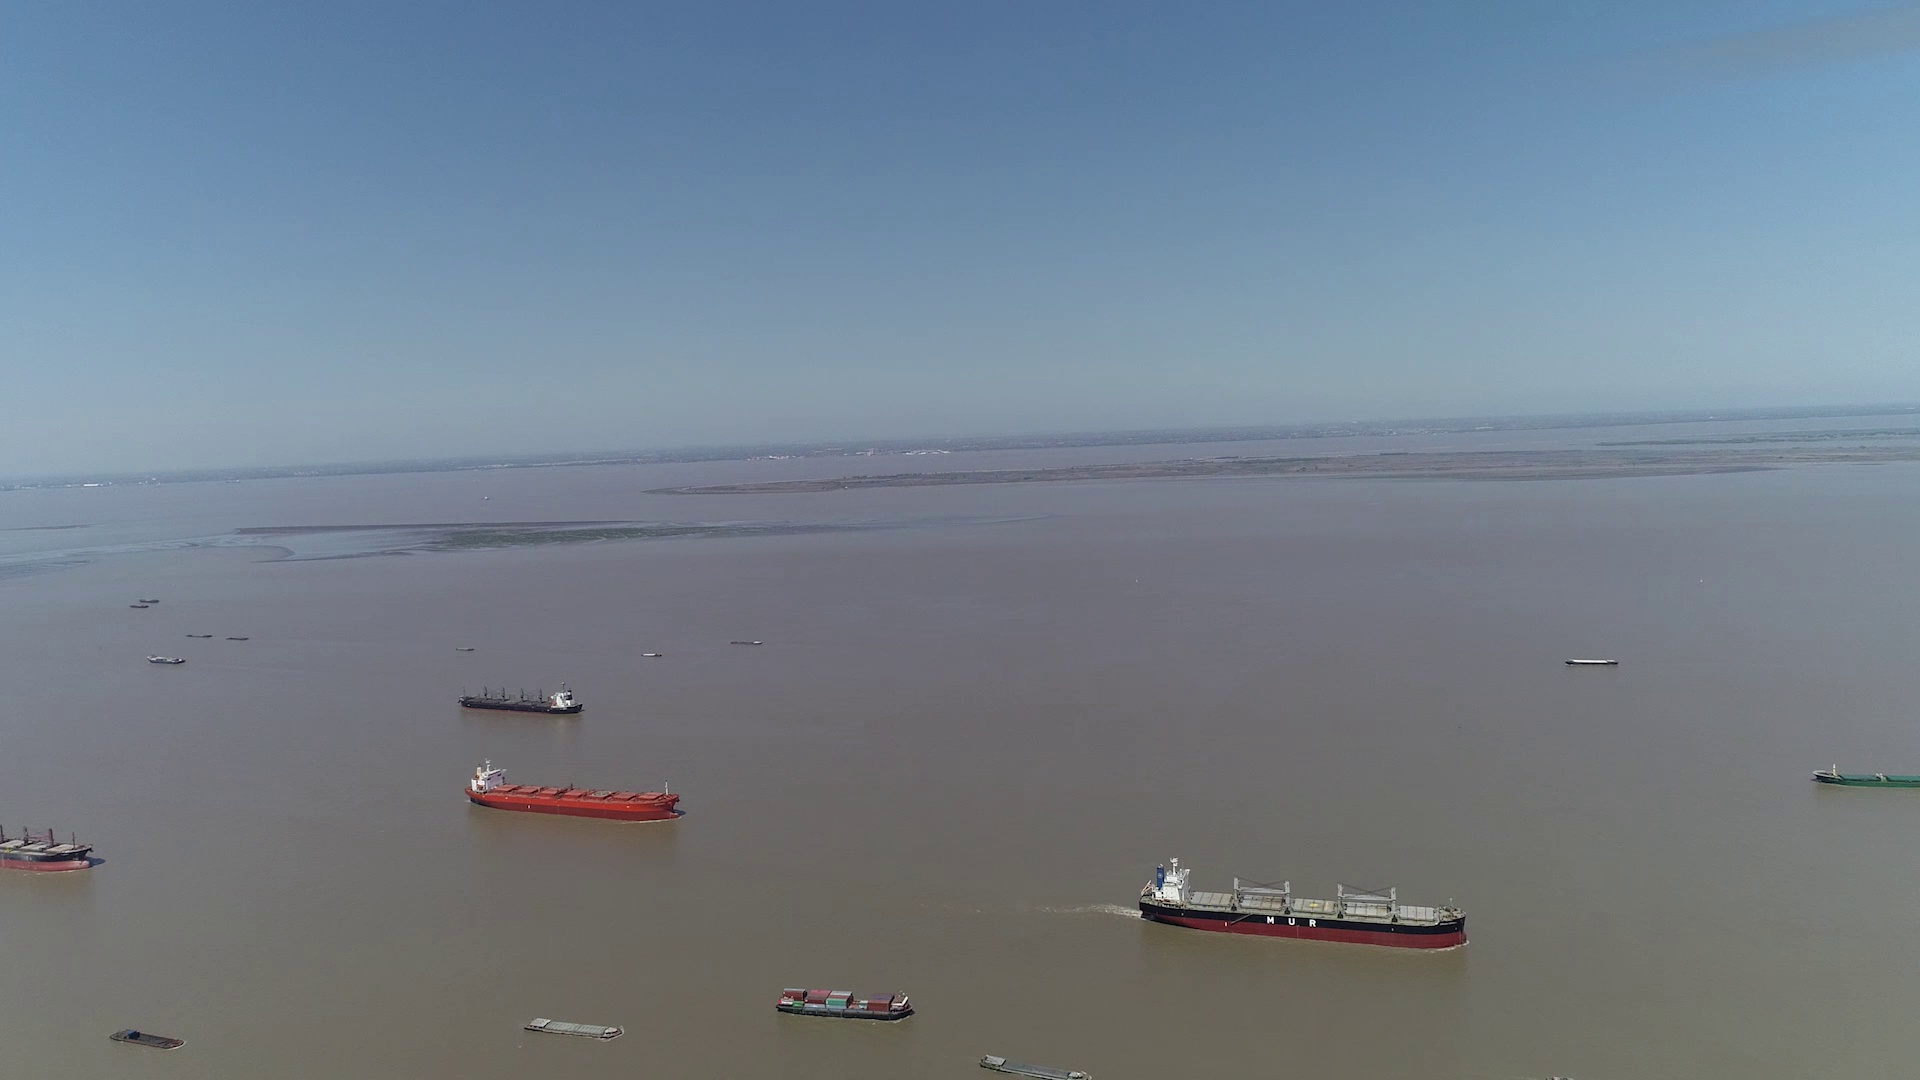ship: (1141, 857, 1469, 949), (465, 757, 680, 822), (1, 810, 100, 876), (777, 988, 913, 1022), (459, 683, 580, 713), (981, 1054, 1087, 1080), (1812, 765, 1919, 789), (526, 1017, 625, 1040), (109, 1027, 185, 1048), (146, 654, 189, 665), (1567, 659, 1615, 667)
